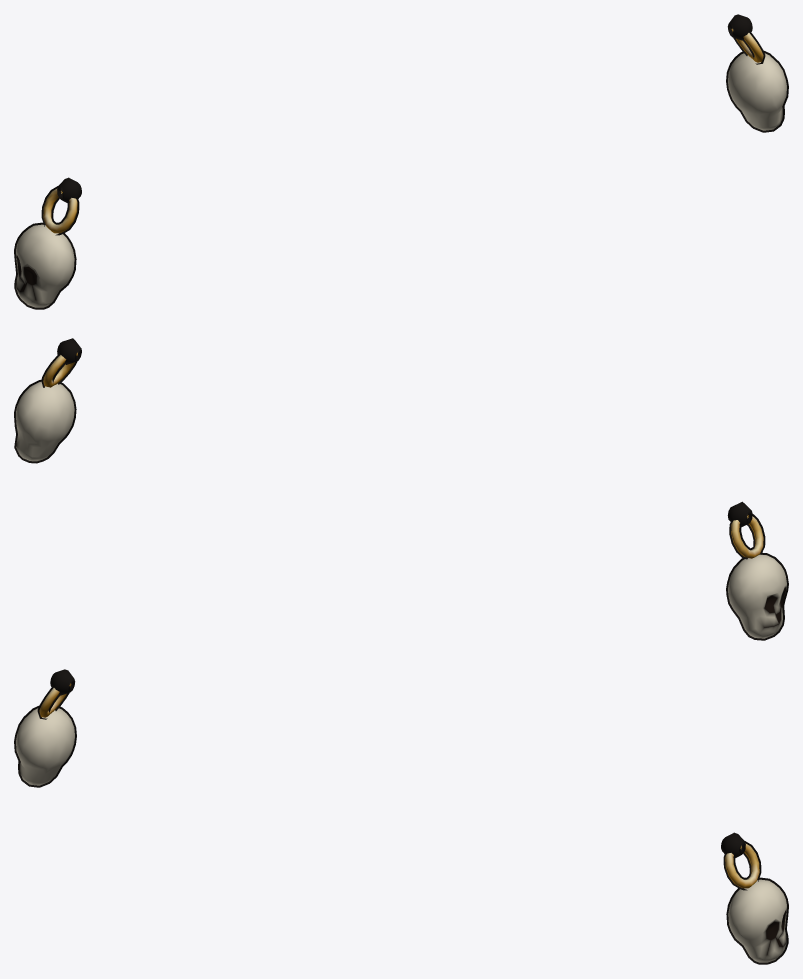
File: earring_skull_male_lo.glb
3 renders of one model, top to bottom at view 1: azimuth 30°, elevation 25°; view 2: azimuth 150°, elevation 25°; view 3: azimuth 330°, elevation 25°, orthographic.
Visible parts, largest first — view 1: earring_skull_male_hi; view 2: earring_skull_male_hi; view 3: earring_skull_male_hi.
Boxes of the visible parts, bbox=[...] form: earring_skull_male_hi: bbox=[14, 14, 788, 309]; earring_skull_male_hi: bbox=[14, 338, 788, 640]; earring_skull_male_hi: bbox=[14, 669, 788, 964].
Size of the model in its own units: 0.477 by 0.0746 by 0.0408.
